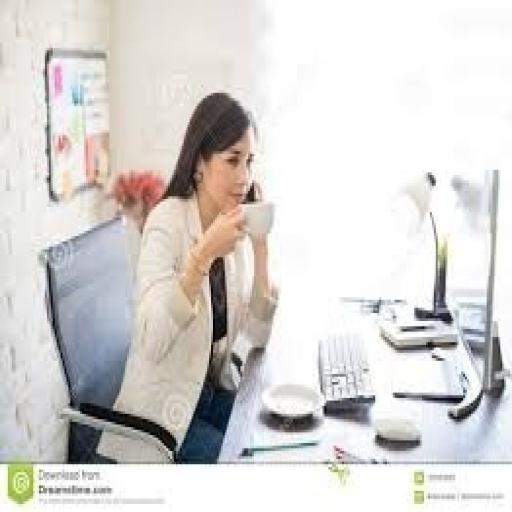calling: (94, 88, 279, 464)
